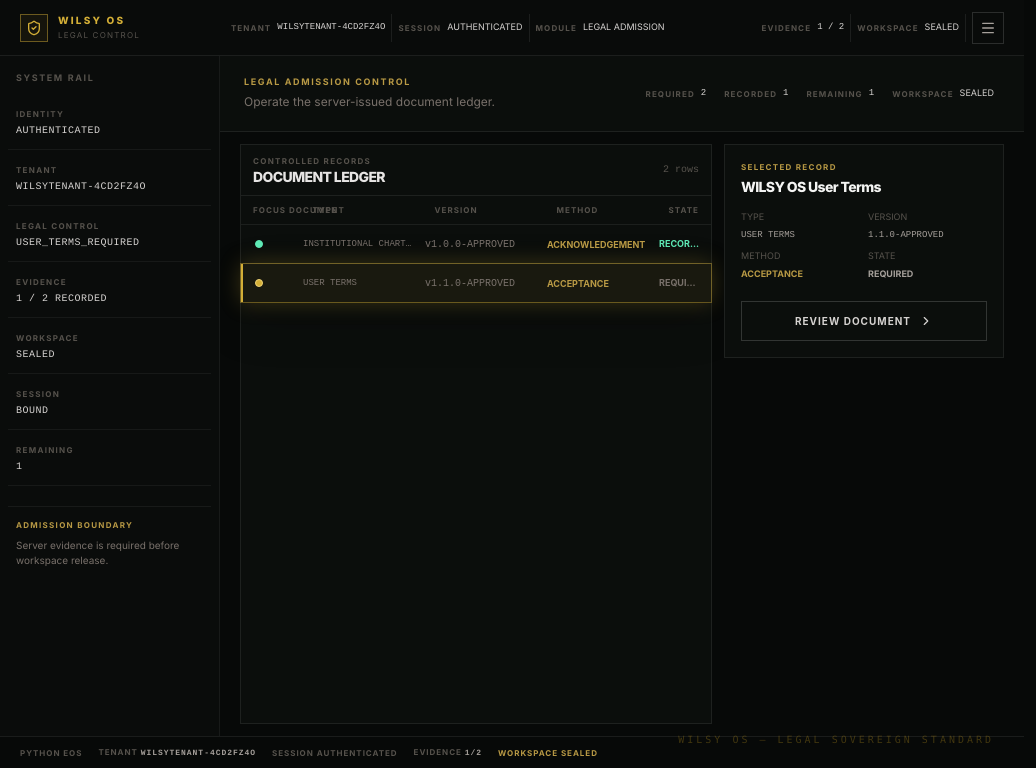
Test: LegalAcceptanceGate institutional interaction shell › renders a server-recorded state without inventing progress authority
The width and height of the screenshot is (1036, 768).
Expected: the heading "Document ledger" is shown, [253,171,385,185]
Click the row named "WILSY OS Institutional Charter" at (476,245), box [241,225,711,264]
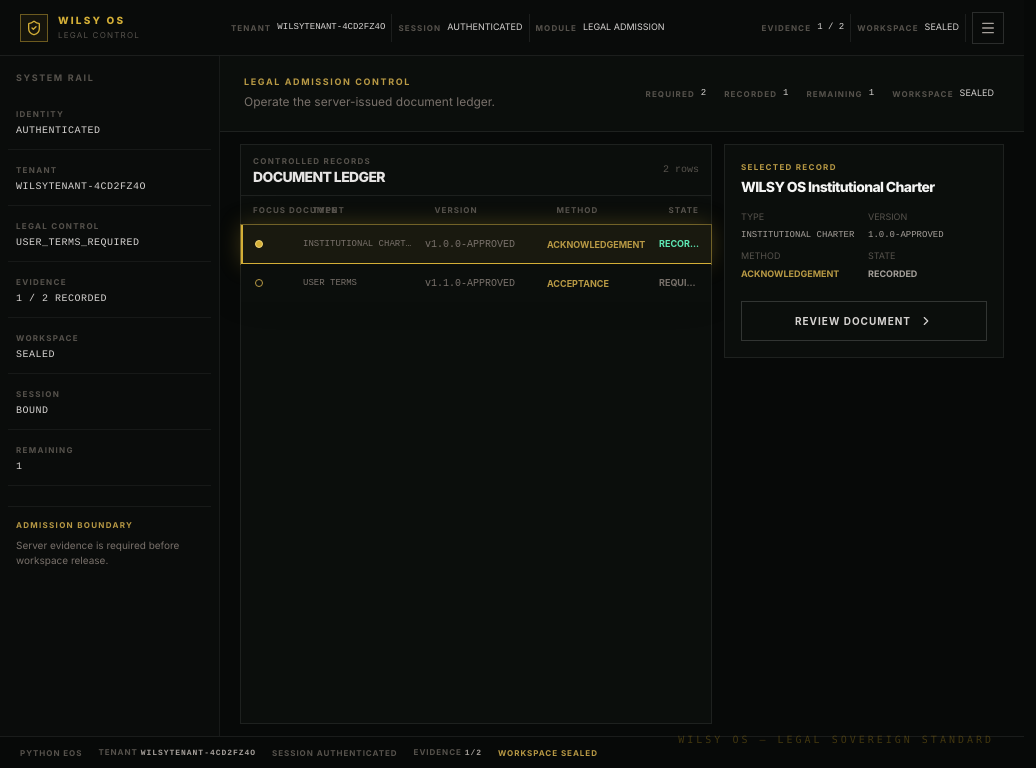
Click the button "Review document" at (864,321), box [741,301,987,341]
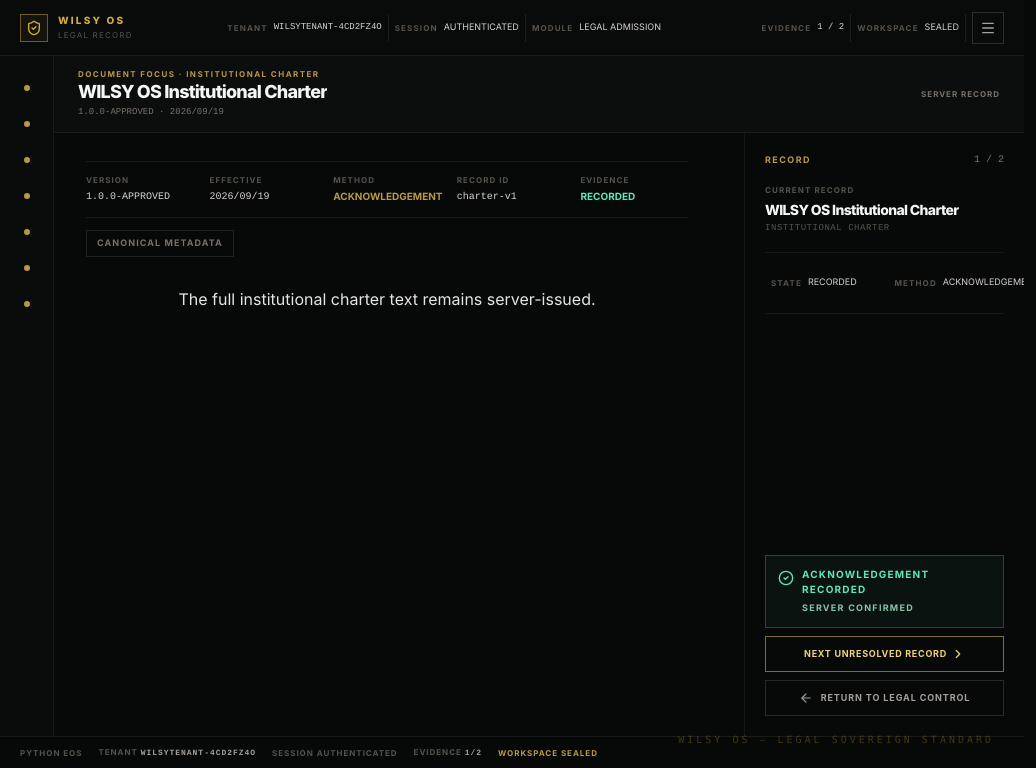
Expected: the element with test id "evidence-recorded" shows "Acknowledgement recorded", [802,568,929,596]
Expected: the element with test id "evidence-recorded" shows "Server confirmed", [802,602,914,614]
